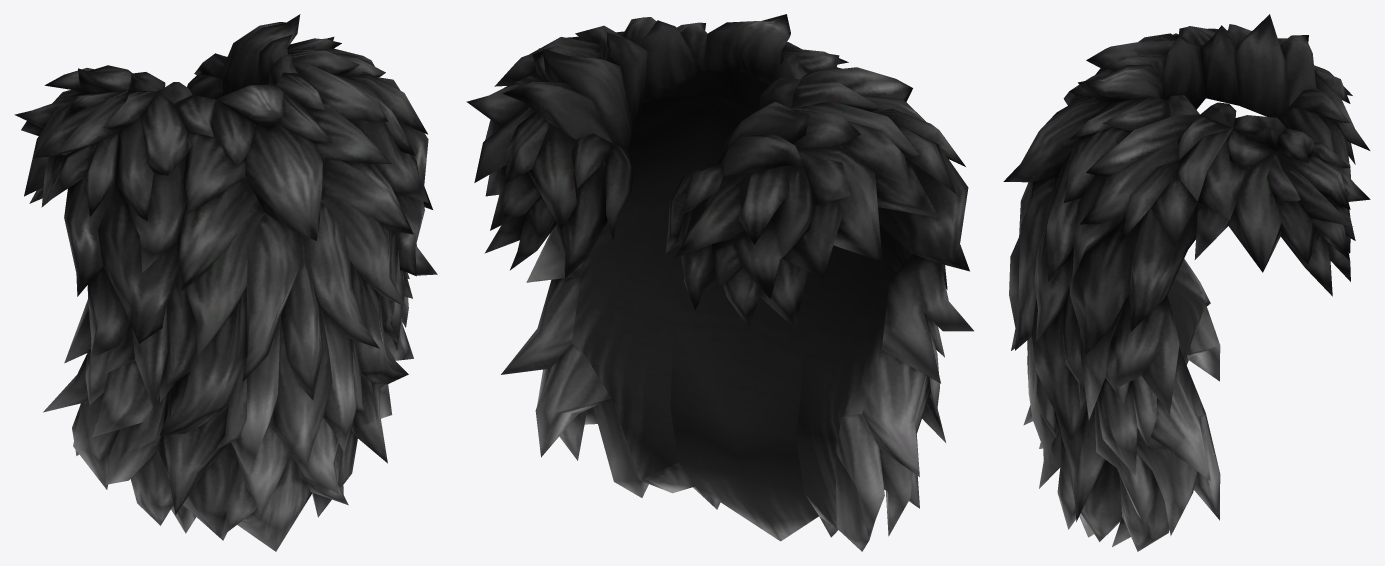
File: fur cloak.obj
3 renders of one model, left to right at view 1: azimuth 30°, elevation 25°; view 2: azimuth 150°, elevation 25°; view 3: azimuth 270°, elevation 25°, orthographic. The views are drawn at different scales.
Parts seen in each view (by area): view 1: fur_cloak; view 2: fur_cloak; view 3: fur_cloak.
Boxes of the visible parts, <box> form: fur_cloak: <box>14,14,437,551</box>; fur_cloak: <box>466,14,973,551</box>; fur_cloak: <box>1003,14,1370,551</box>.
Bounding box in the file's own units: 5.13 × 6.02 × 4.25.
Materials: 1 (1 with a texture image).
